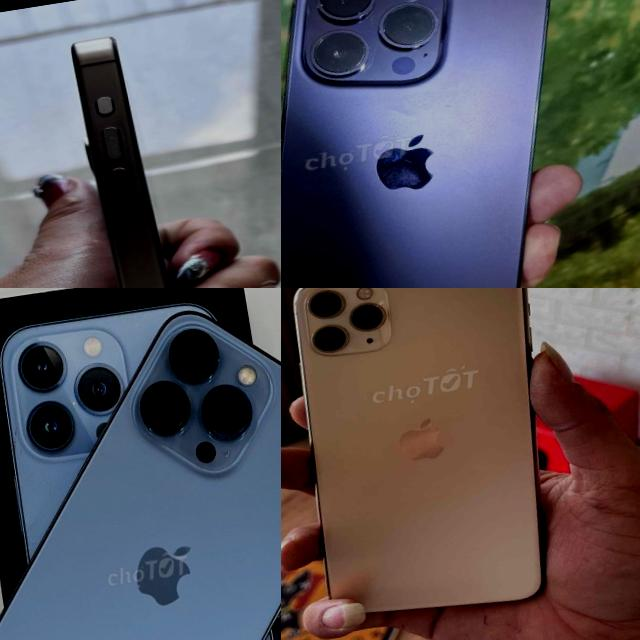gen_11: (281, 288, 593, 640)
gen_12_13: (0, 288, 281, 640)
gen_14: (281, 0, 603, 288)
gen_15: (41, 19, 248, 288)
